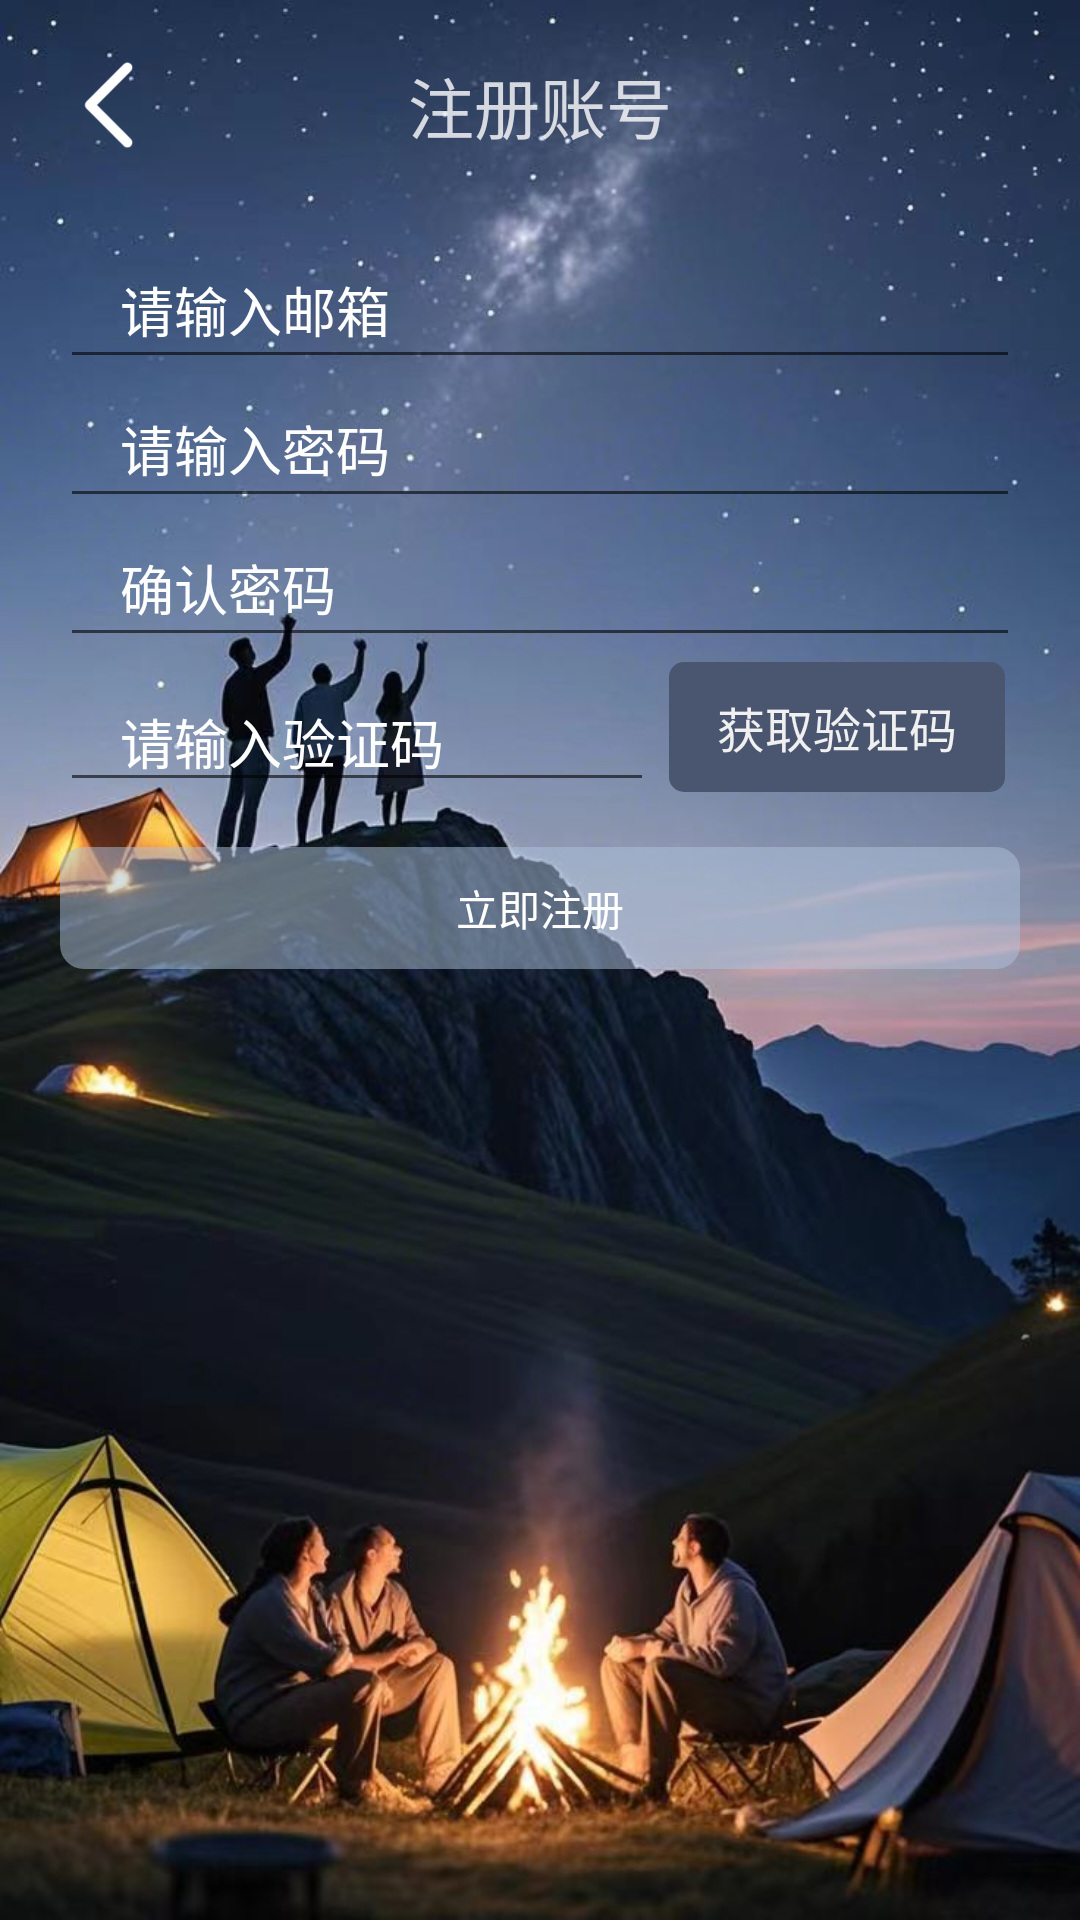

Icons on this 1080w x 1920h Android screen, each with the point to tap as (x,y):
back: (128,100)
